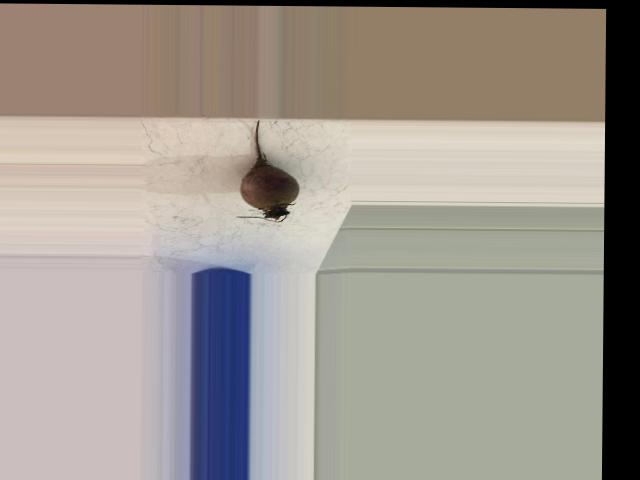beet: (235, 119, 299, 222)
